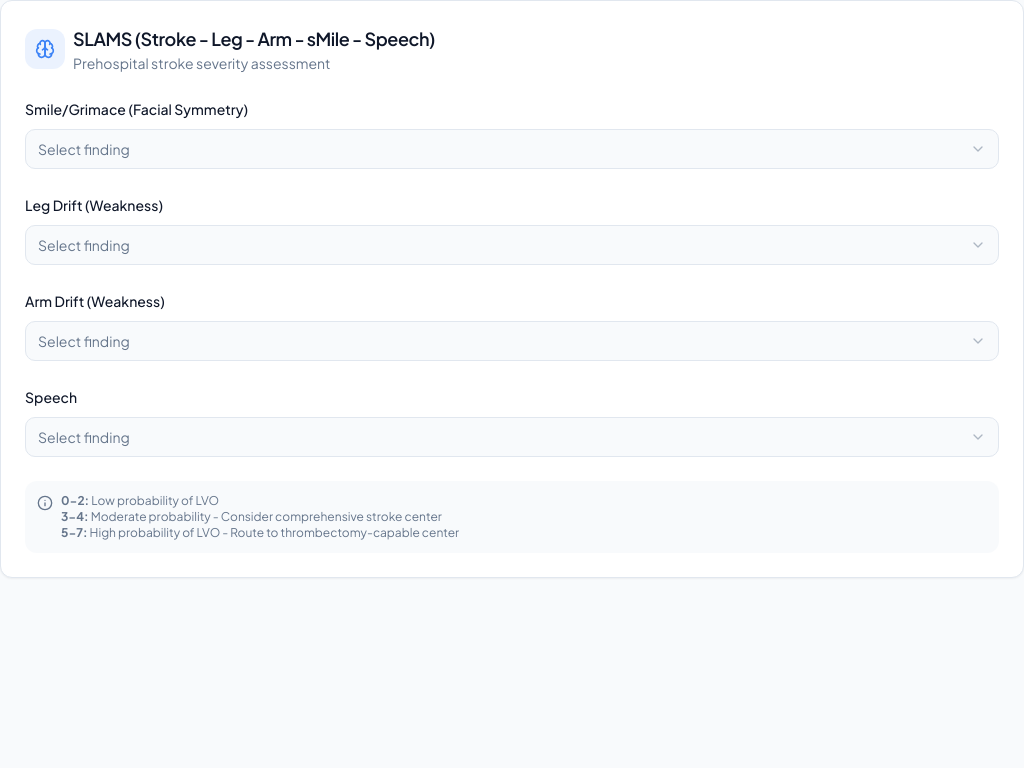
SLAMSCalculator › Scoring Options - Leg Drift › provides leg weakness scoring options (0-2)
Click the dropdown labelled "Select finding" below "Leg Drift (Weakness)".
click(84, 245)  # box [25,225,999,265]
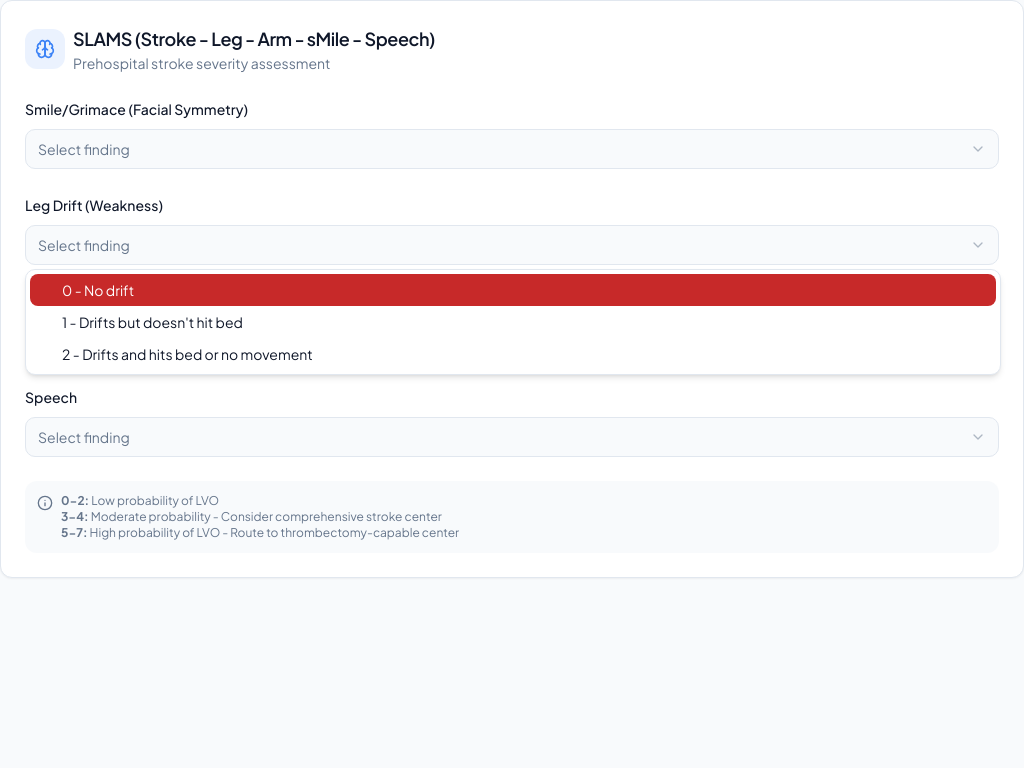
Expected: the text "0 - No drift" is shown, [62,280,134,300]
Expected: the text "1 - Drifts but doesn't hit bed" is shown, [62,312,243,332]
Expected: the text "2 - Drifts and hits bed or no movement" is shown, [62,344,313,364]
